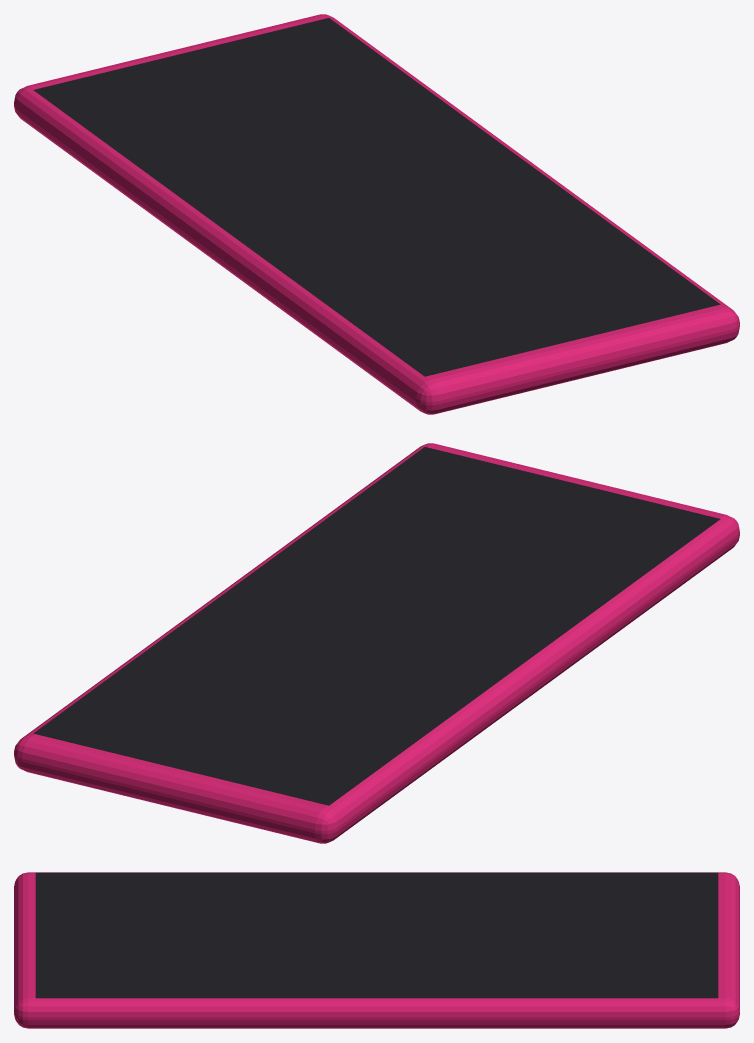
Rendered from oppo-find-x-model-324-flagship-2026.glb.
3 renders of one model, top to bottom at view 1: azimuth 30°, elevation 25°; view 2: azimuth 150°, elevation 25°; view 3: azimuth 270°, elevation 25°, orthographic. The views are drawn at different scales.
Parts seen in each view (by area): view 1: Phone_Screen, Phone_Body; view 2: Phone_Screen, Phone_Body; view 3: Phone_Screen, Phone_Body.
Boxes of the visible parts, x1,y1,x2,y2 form: Phone_Screen: (33,18,720,376); Phone_Body: (14,14,739,414); Phone_Screen: (33,447,720,805); Phone_Body: (14,443,739,843); Phone_Screen: (35,872,718,998); Phone_Body: (14,872,739,1028).
Size of the model in its own units: 0.0714 by 0.0072 by 0.1602.
